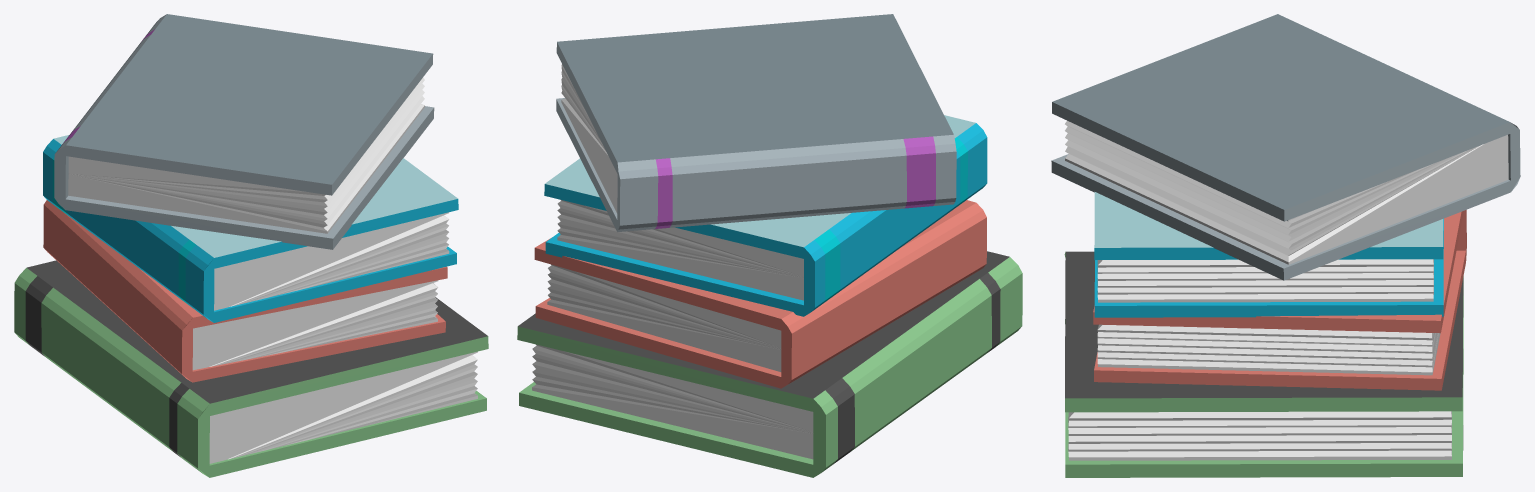
Rendered from BookStack.fbx.
3 renders of one model, left to right at view 1: azimuth 30°, elevation 25°; view 2: azimuth 150°, elevation 25°; view 3: azimuth 270°, elevation 25°, orthographic. The views are drawn at different scales.
Visible parts, largest first — view 1: model:Mesh; view 2: model:Mesh; view 3: model:Mesh.
Part boxes in pixels (left/top/right/bottom): model:Mesh: left=14, top=14, right=488, bottom=477; model:Mesh: left=517, top=14, right=1022, bottom=477; model:Mesh: left=1051, top=14, right=1520, bottom=477.
Bounding box in the file's own units: 0.8628 × 0.5972 × 0.8581.
